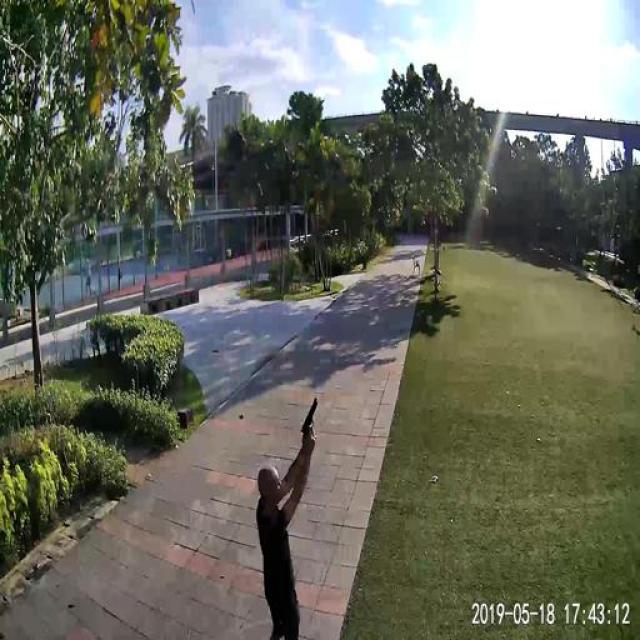Gun: (295, 388, 334, 448)
